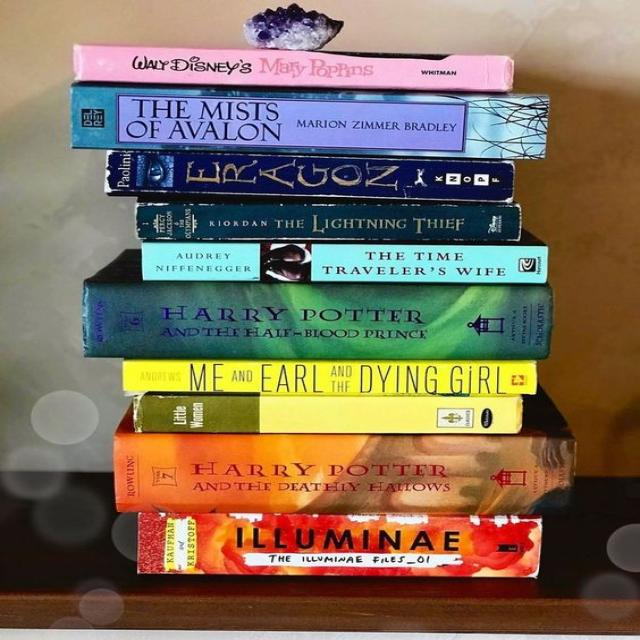book: (83, 250, 553, 359), (115, 408, 573, 514), (70, 84, 549, 159), (137, 514, 540, 576), (106, 150, 513, 202), (74, 46, 513, 93), (143, 242, 548, 284), (123, 360, 536, 396), (136, 203, 520, 241), (141, 397, 521, 434)
